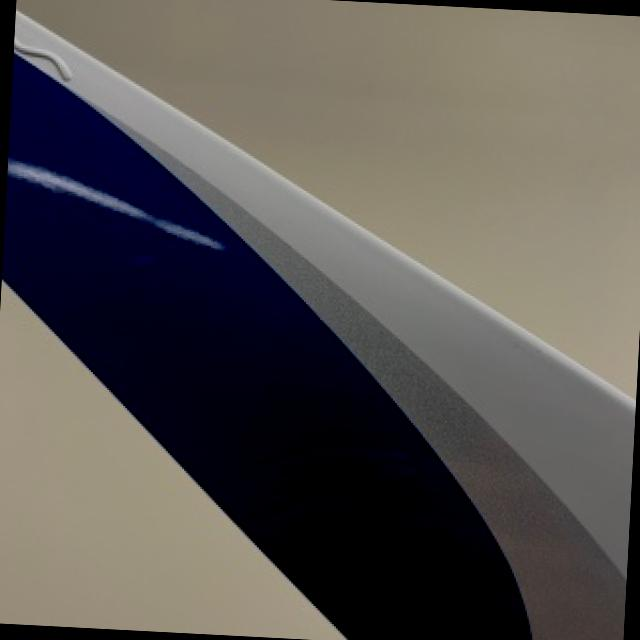healthy: (0, 288, 342, 639)
